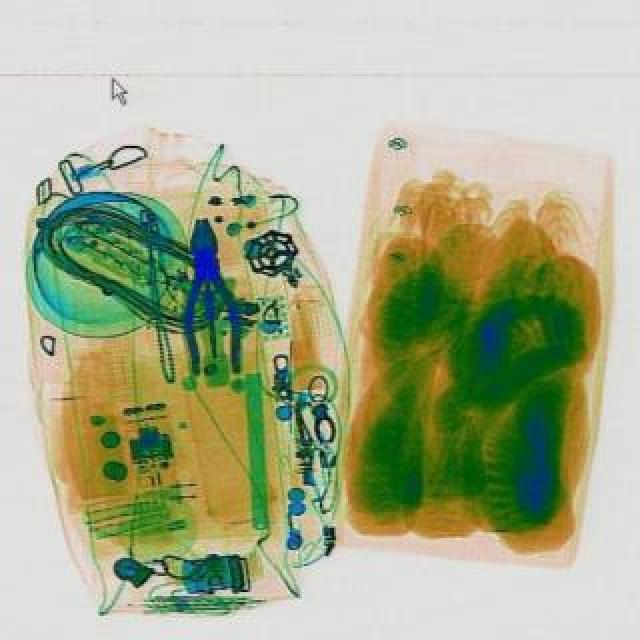wrench: (170, 214, 240, 376)
